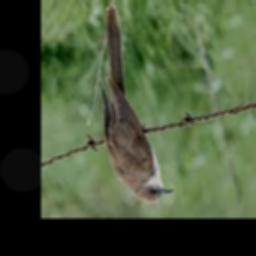Cuckoo: (100, 3, 174, 203)
